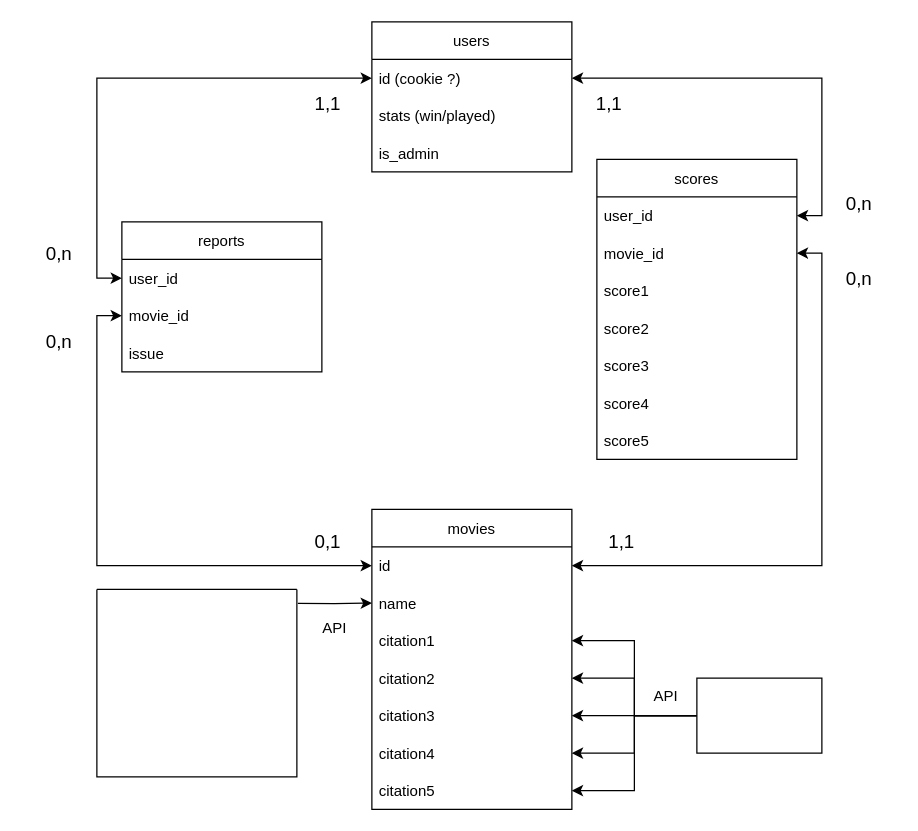
Some shapes in this 918 by 831 pixel diagram are drawn without their labels. The centre of each missing label's shape, as x and y in pixels:
"bdd tmdb" belongs at [196,682].
"chatgpt" belongs at [759,715].
